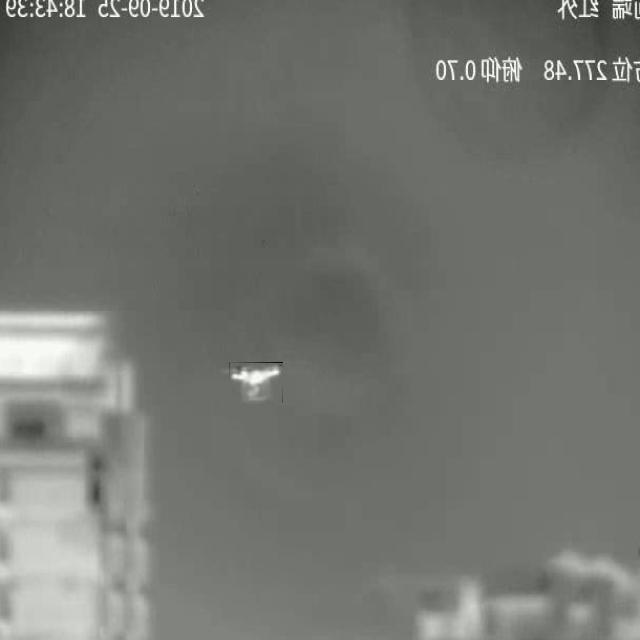drone: (229, 363, 283, 403)
